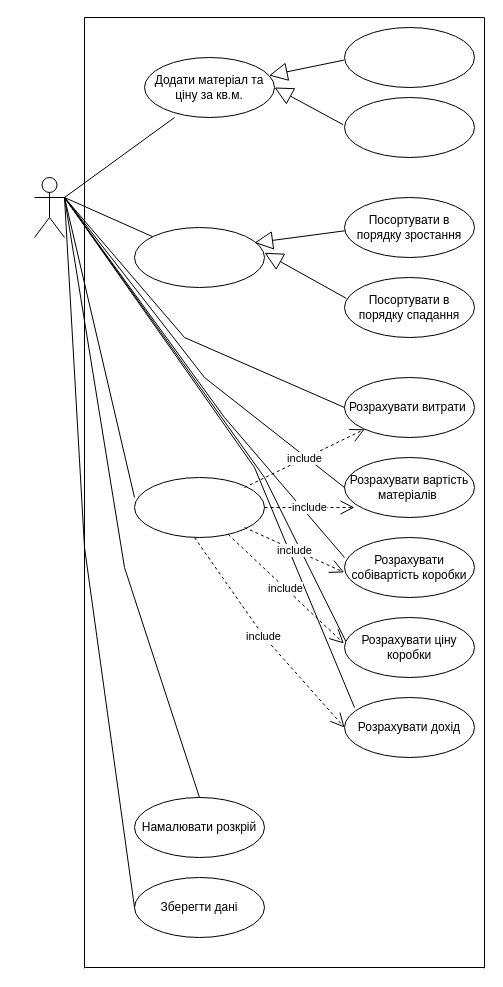
Some shapes in this 503 by 987 pixel diagram are drawn without their labels. Each missing label, with the centre of its shape:
Ввести вручну: the point at 409,127
Зчитати з файлу дані: the point at 409,57
Користувач: the point at 49,207
Посортувати дані за цінами за кв.м.: the point at 199,257
Розрахувати все: the point at 199,507
